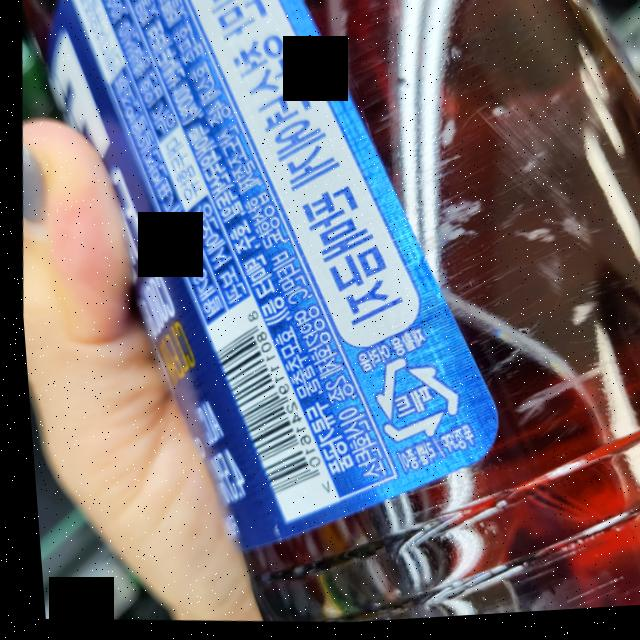PET: (358, 354, 459, 453)
